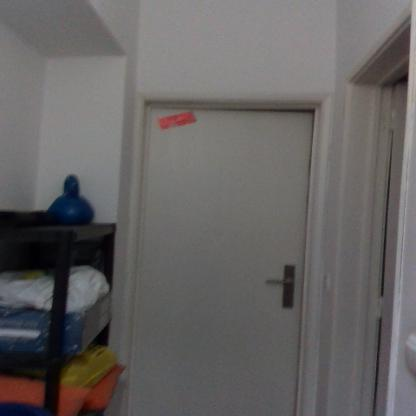door: (145, 108, 306, 415)
lever: (266, 276, 295, 286)
